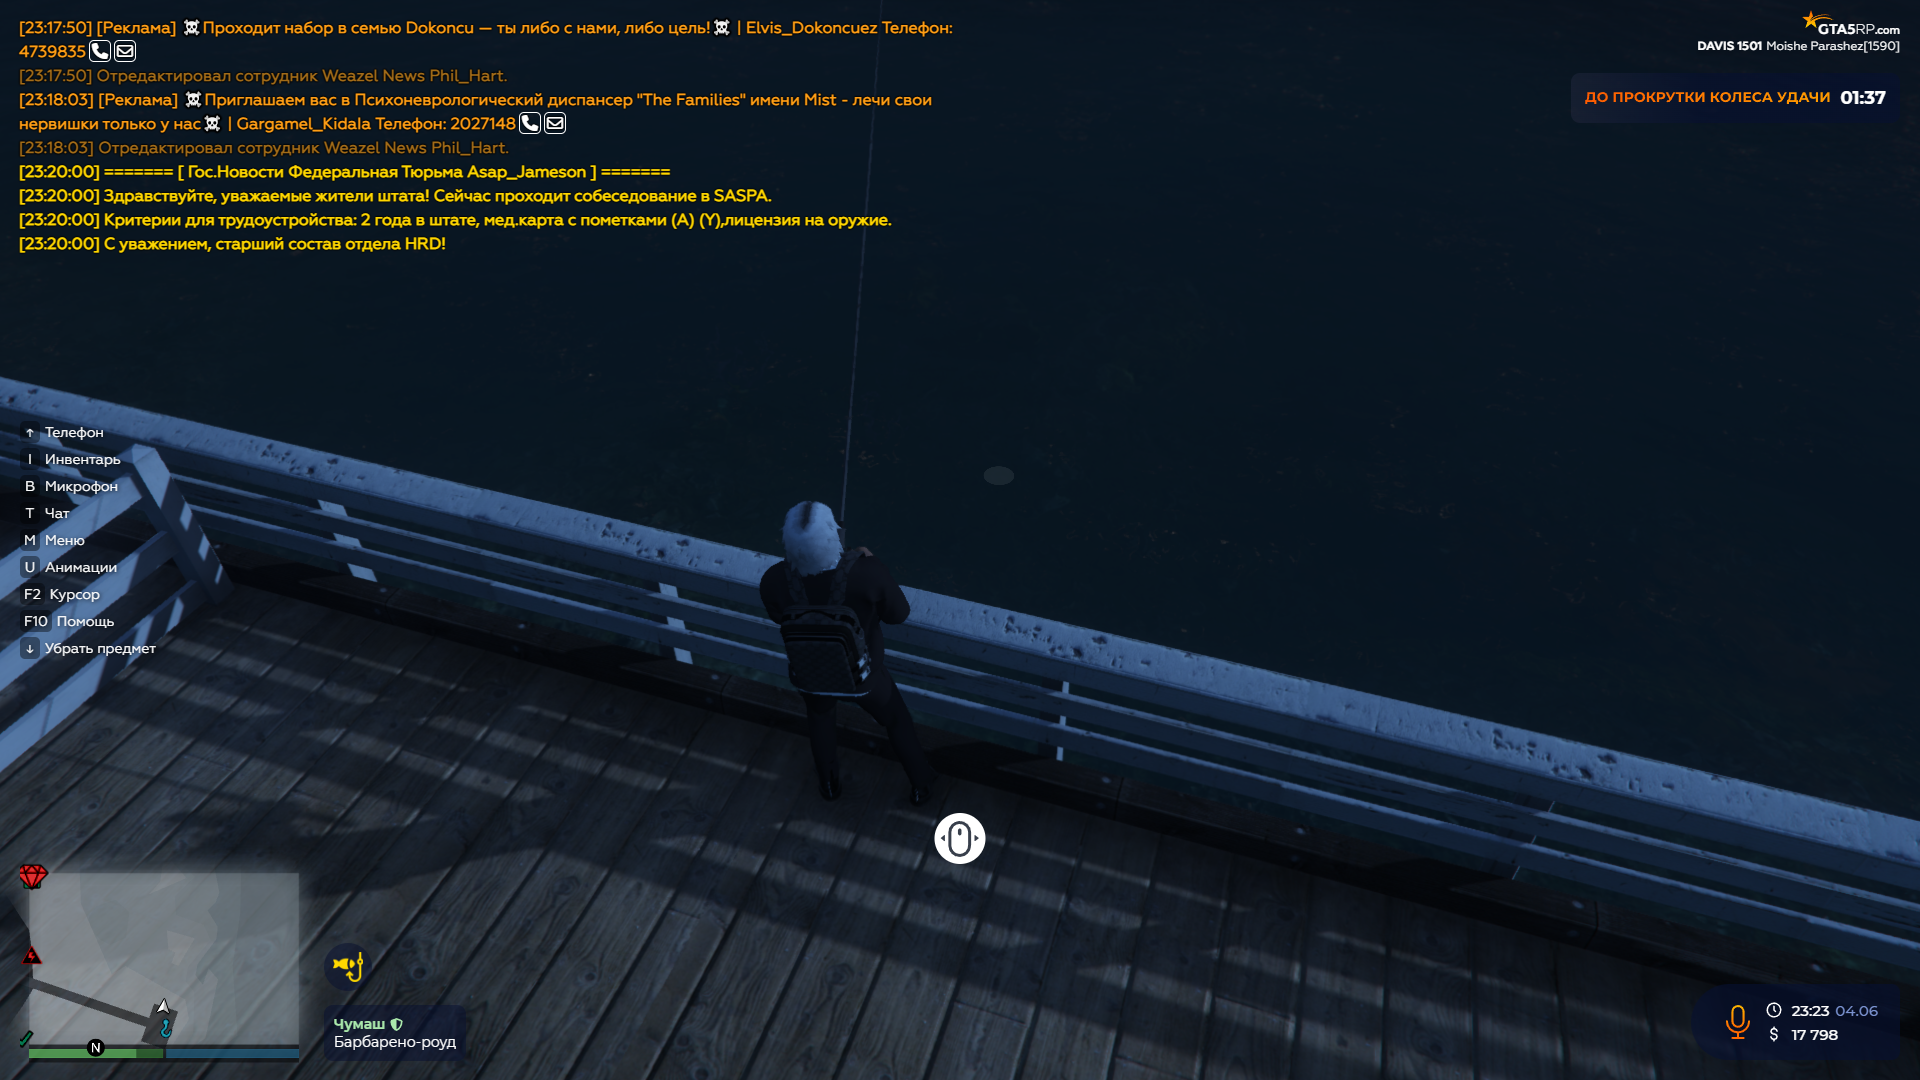circle: (984, 464, 1015, 487)
